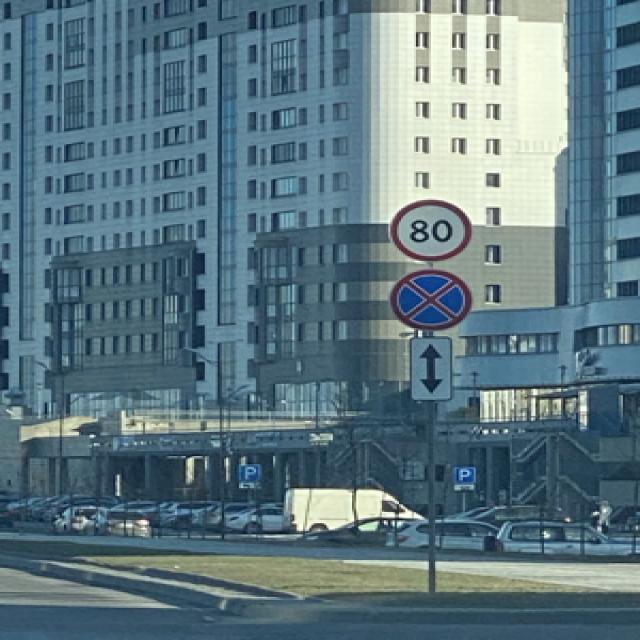speedlimit: (386, 198, 467, 261)
